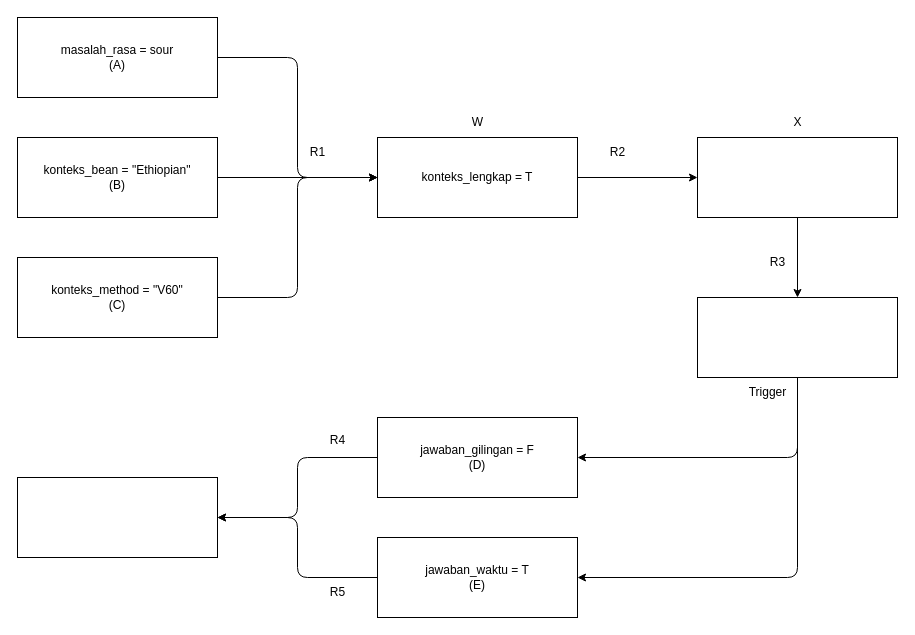
Some shapes in this 915 by 635 pixel diagram are drawn without their labels. Each missing label, with the centre of its shape:
"mulai_diagnosis_berbasis_resep" goes at [797,337].
"perpanjang_waktu_seduh = T" goes at [117,517].
"resep_ideal = T" goes at [797,177].
